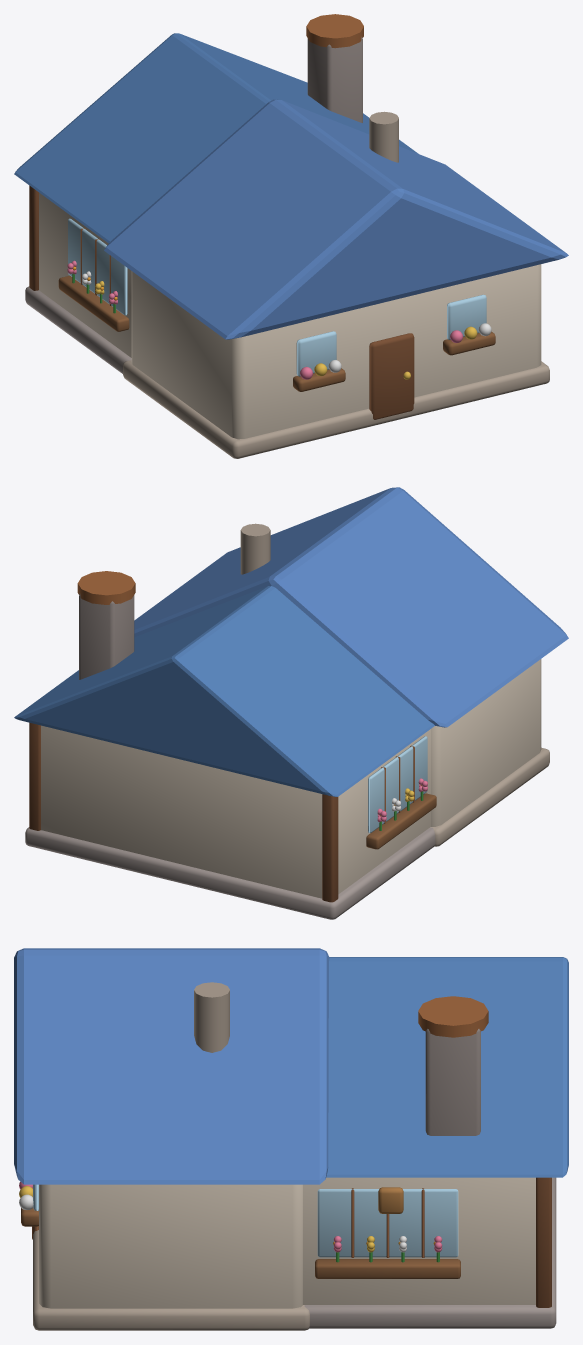
The model's file is kitchen1.glb.
3 renders of one model, top to bottom at view 1: azimuth 30°, elevation 25°; view 2: azimuth 150°, elevation 25°; view 3: azimuth 270°, elevation 25°, orthographic. The views are drawn at different scales.
Parts seen in each view (by area): view 1: base, roof, walls, stone, flower, copper, frame; view 2: base, roof, walls, stone, frame, flower, copper; view 3: base, roof, walls, stone, flower, copper, frame.
Part boxes in pixels (left/top/right/bottom): base: left=104, top=99, right=568, bottom=458; roof: left=14, top=33, right=418, bottom=243; walls: left=39, top=192, right=131, bottom=357; stone: left=25, top=37, right=362, bottom=373; flower: left=58, top=260, right=129, bottom=331; copper: left=306, top=14, right=363, bottom=48; frame: left=29, top=185, right=111, bottom=305; base: left=134, top=487, right=568, bottom=846; roof: left=14, top=586, right=434, bottom=796; walls: left=41, top=725, right=430, bottom=898; stone: left=25, top=594, right=435, bottom=919; frame: left=29, top=722, right=414, bottom=902; flower: left=366, top=778, right=436, bottom=849; copper: left=77, top=571, right=135, bottom=604; base: left=14, top=948, right=329, bottom=1330; roof: left=326, top=957, right=568, bottom=1177; walls: left=303, top=1177, right=535, bottom=1304; stone: left=304, top=1029, right=556, bottom=1328; flower: left=315, top=1236, right=460, bottom=1278; copper: left=378, top=996, right=488, bottom=1213; frame: left=351, top=1177, right=551, bottom=1307.
Bounding box in the file's own units: 4.81 × 3.25 × 5.52.
